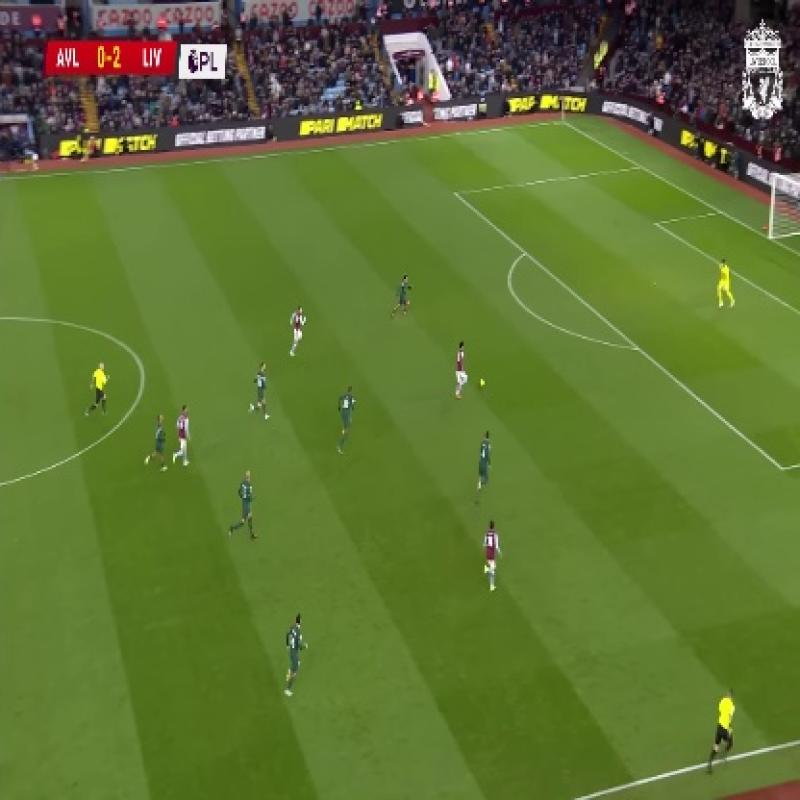1: (550, 113, 569, 129)
10: (515, 240, 533, 262)
11: (627, 334, 646, 360)
12: (771, 452, 792, 479)
2: (630, 156, 648, 175)
3: (710, 200, 728, 221)
7: (646, 211, 664, 235)
9: (444, 181, 464, 204)
c: (132, 359, 155, 390)
